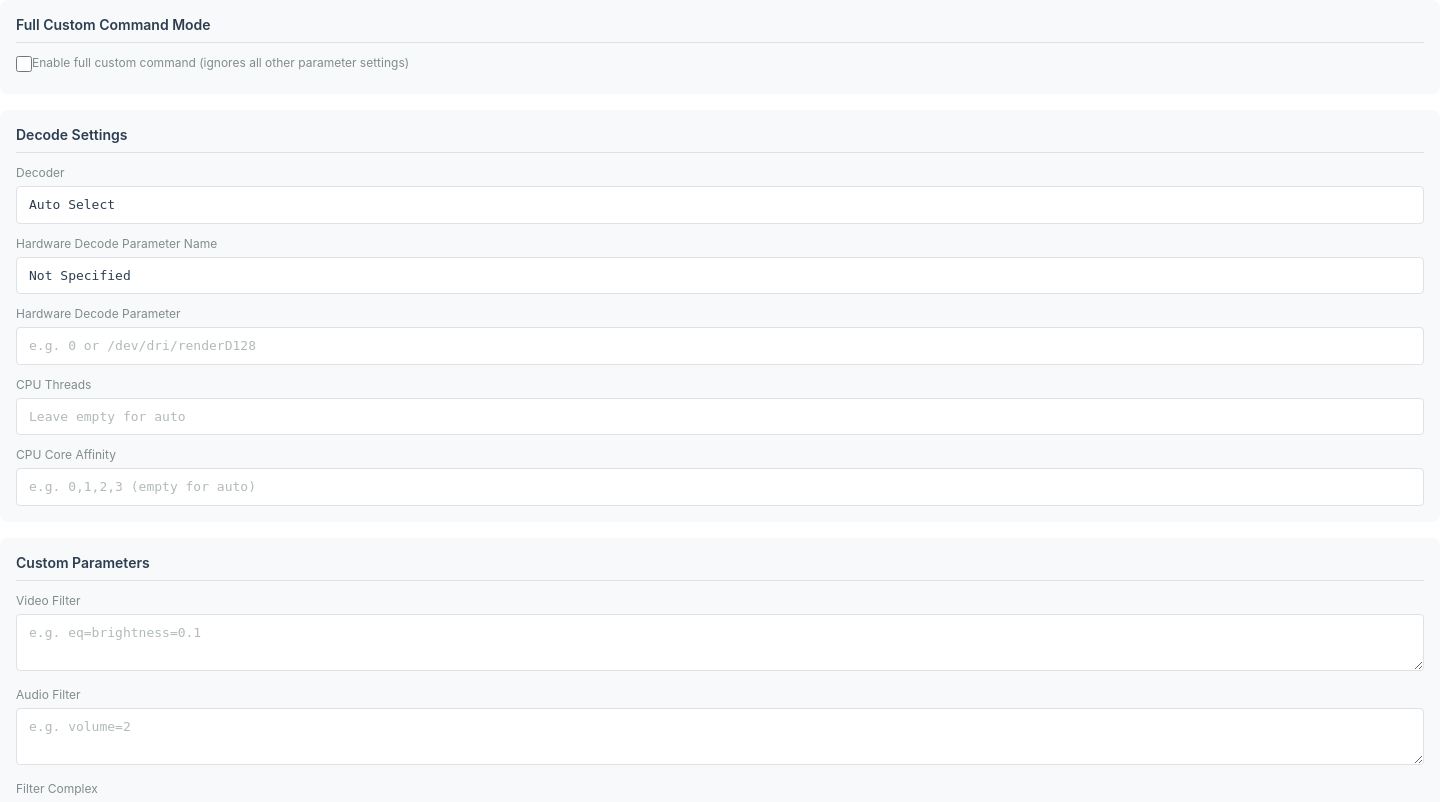
Test: AdvancedSettings › validates CPU affinity as zero or positive integer list
In the field with class "cpu-affinity-input": (720, 487) [16, 468, 1424, 506], type "-1"
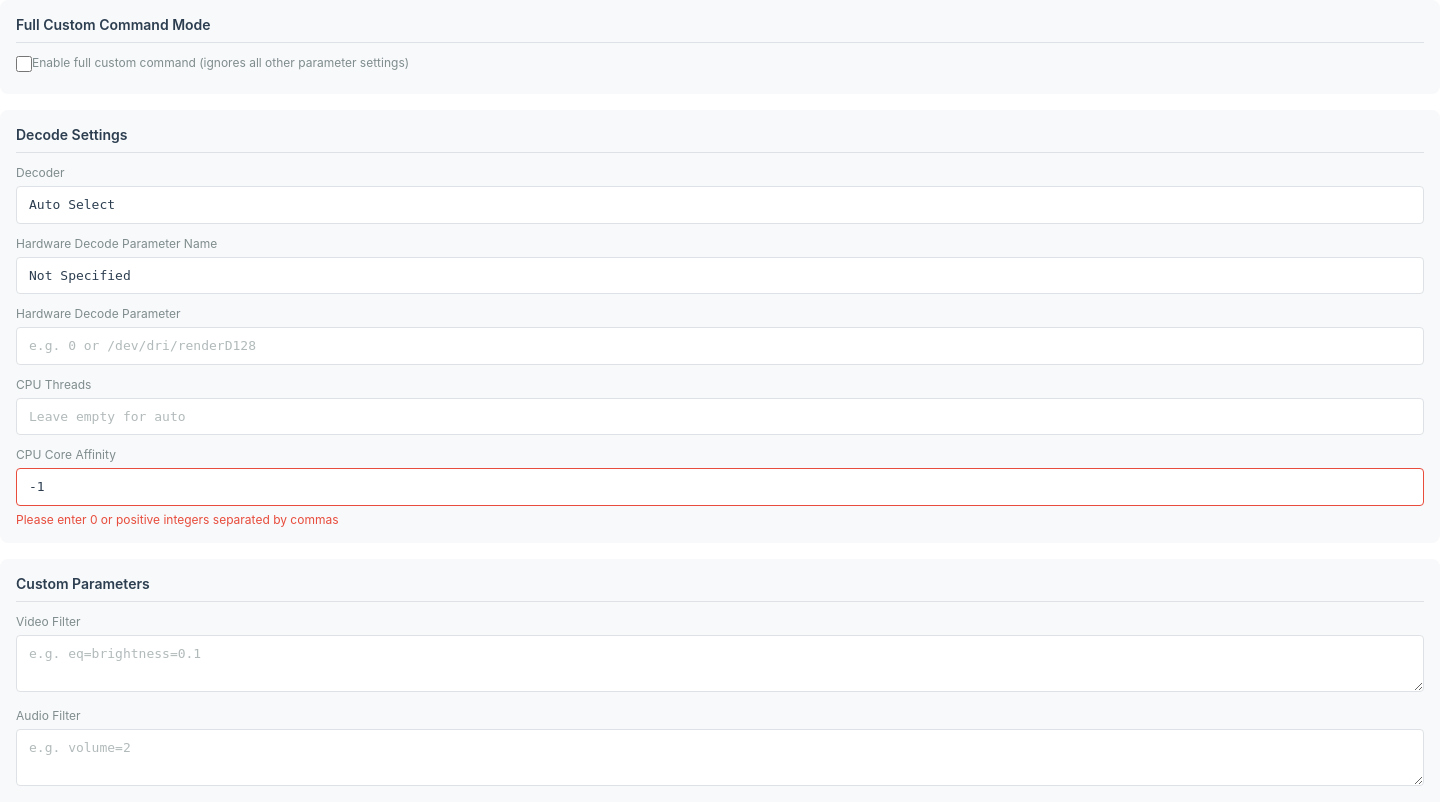
Check: the text "Please enter 0 or positive integers separated by commas" is shown, box [16, 512, 338, 527]
Replace the text in the field with class "cpu-affinity-input" with "0,1,2": (720, 487) [16, 468, 1424, 506]
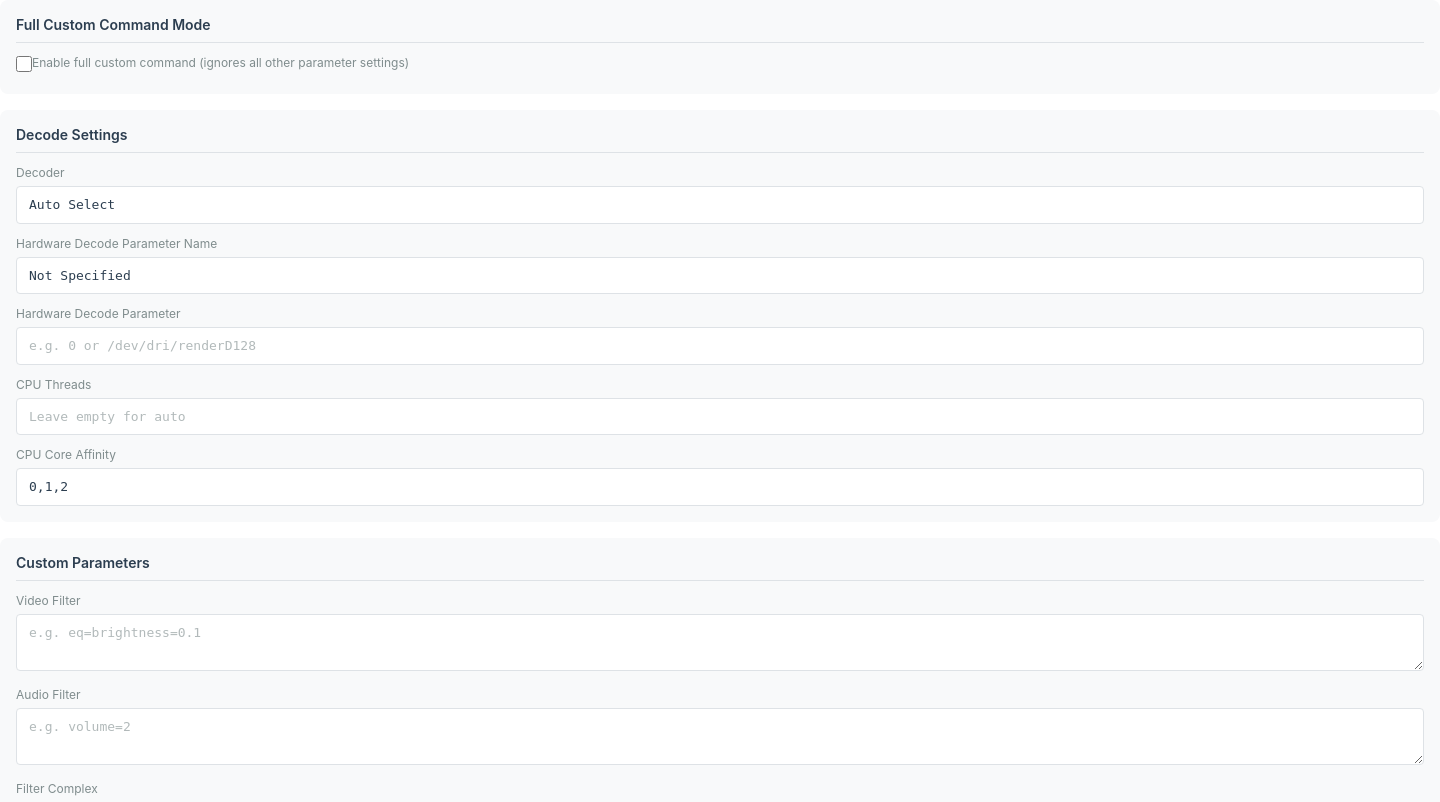
Check: the text "Please enter 0 or positive integers separated by commas" is gone
